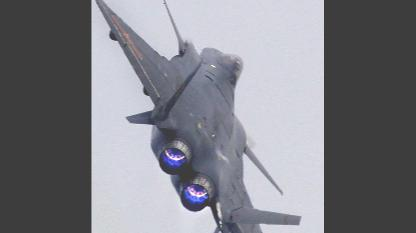F4: (92, 0, 303, 231)
